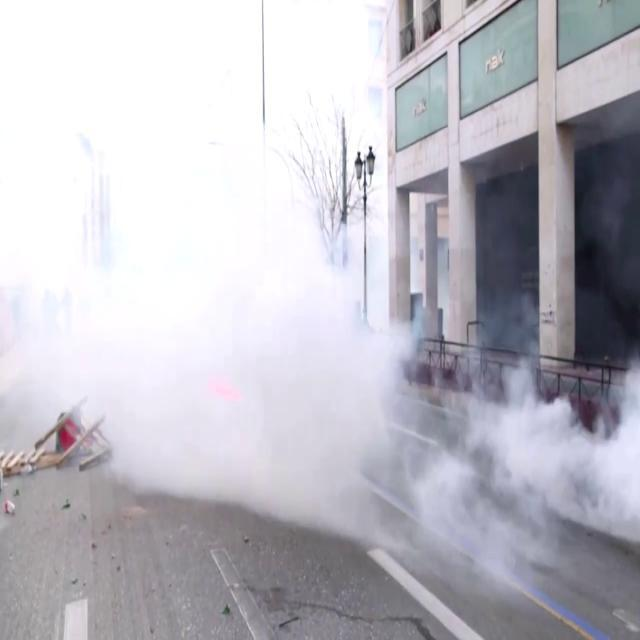Smoke: (0, 2, 369, 547), (381, 322, 640, 604)
